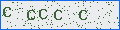C: (79, 10, 87, 20), (54, 10, 62, 20), (39, 9, 47, 19), (27, 10, 35, 20), (3, 7, 11, 17)
